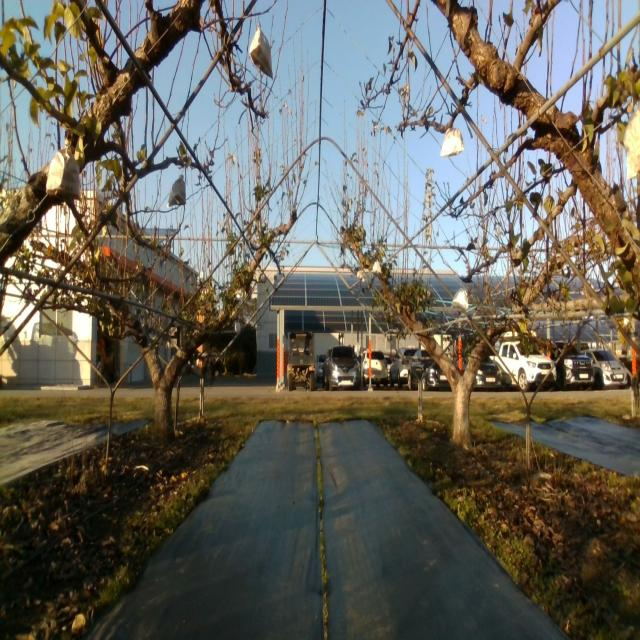pearbags: (46, 149, 81, 201), (250, 22, 274, 79), (440, 124, 465, 159), (168, 173, 186, 205), (451, 284, 469, 310)
